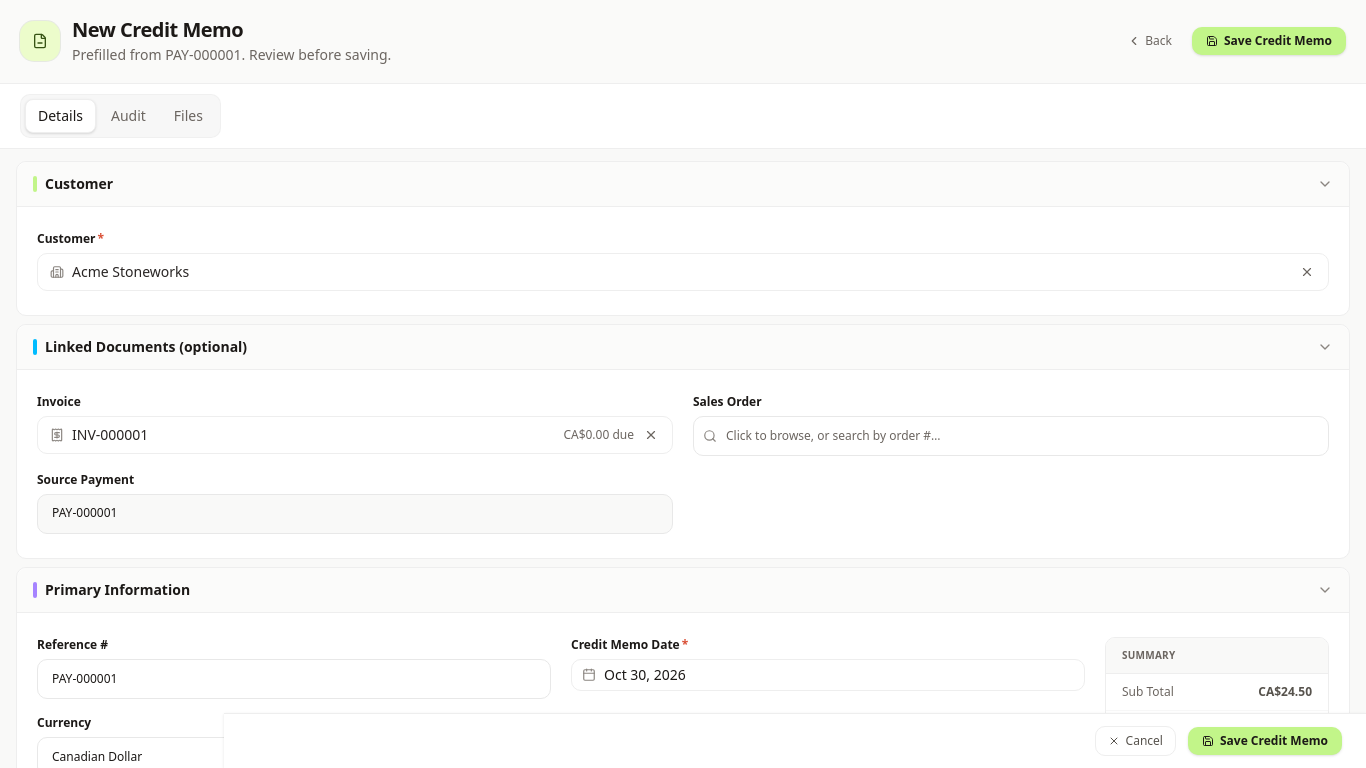
AddCreditMemoPage payment handoff › cancelling › stays on the form, with everything entered, when the user chooses to stay
Expected: the text "Acme Stoneworks" is shown, [72,262,189,281]
Click the button "Cancel": (1135, 741) [1095,726,1176,756]
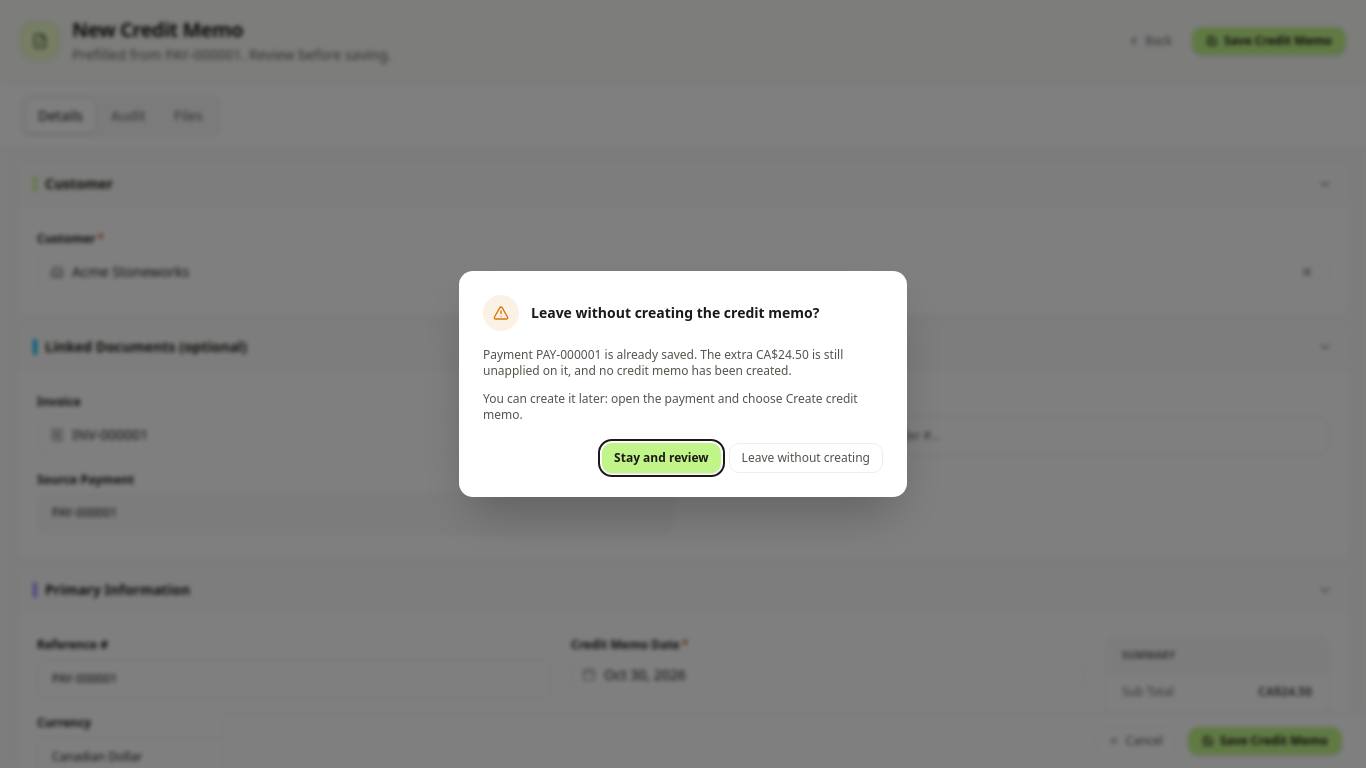
Click the button with aria-label "Stay and review the credit memo": (661, 458) [602,443,721,473]
(page scrolled)
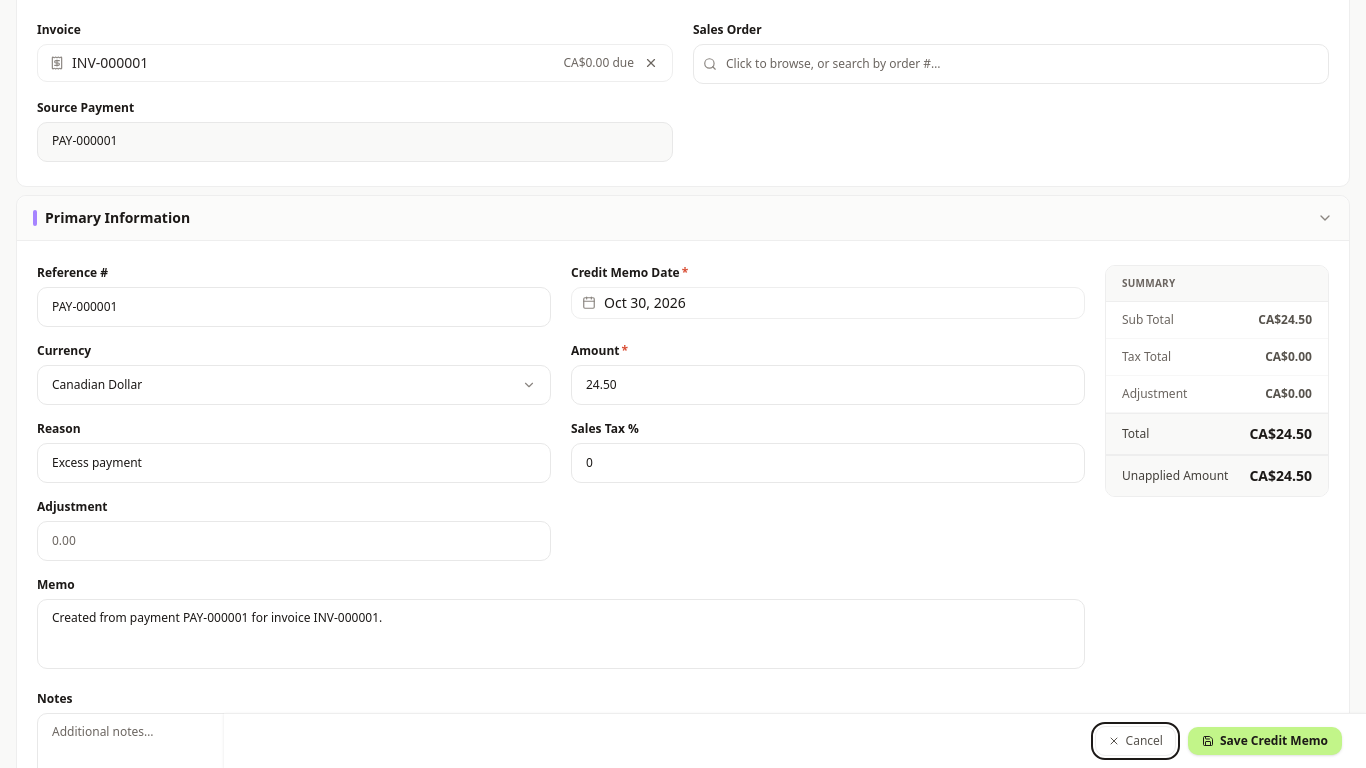
Expected: the number field named "Amount" holds "24.5", [571,365,1085,405]
Result: the heading "Leave without creating the credit memo?" is gone
